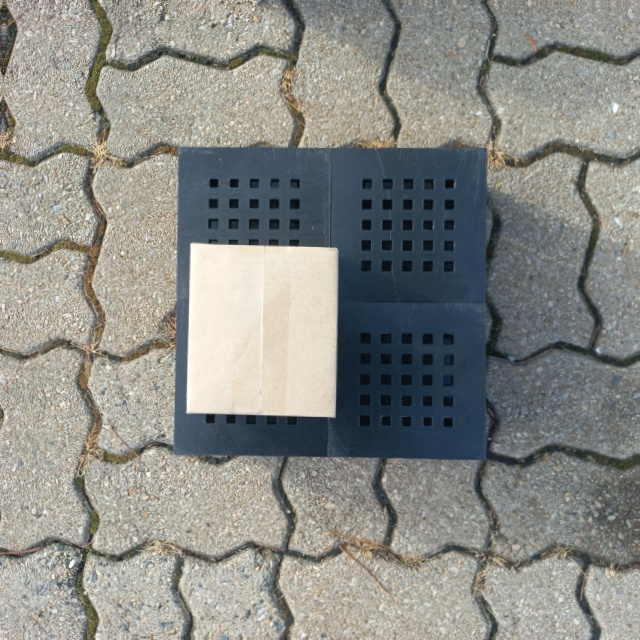box: (184, 241, 341, 425)
pallet: (175, 138, 496, 466)
